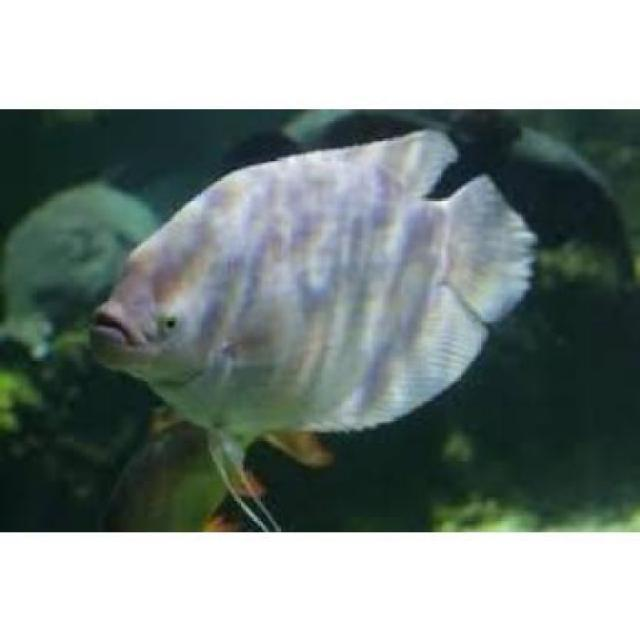gurame: (90, 142, 544, 450)
